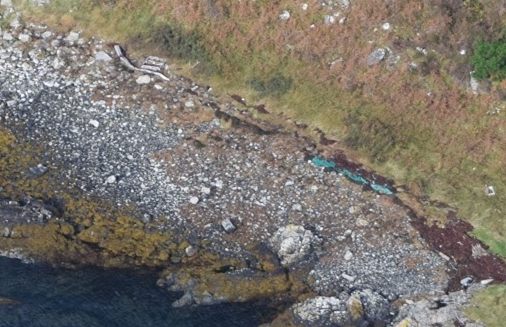straight_bar: (310, 152, 394, 201)
tube: (111, 41, 171, 81)
